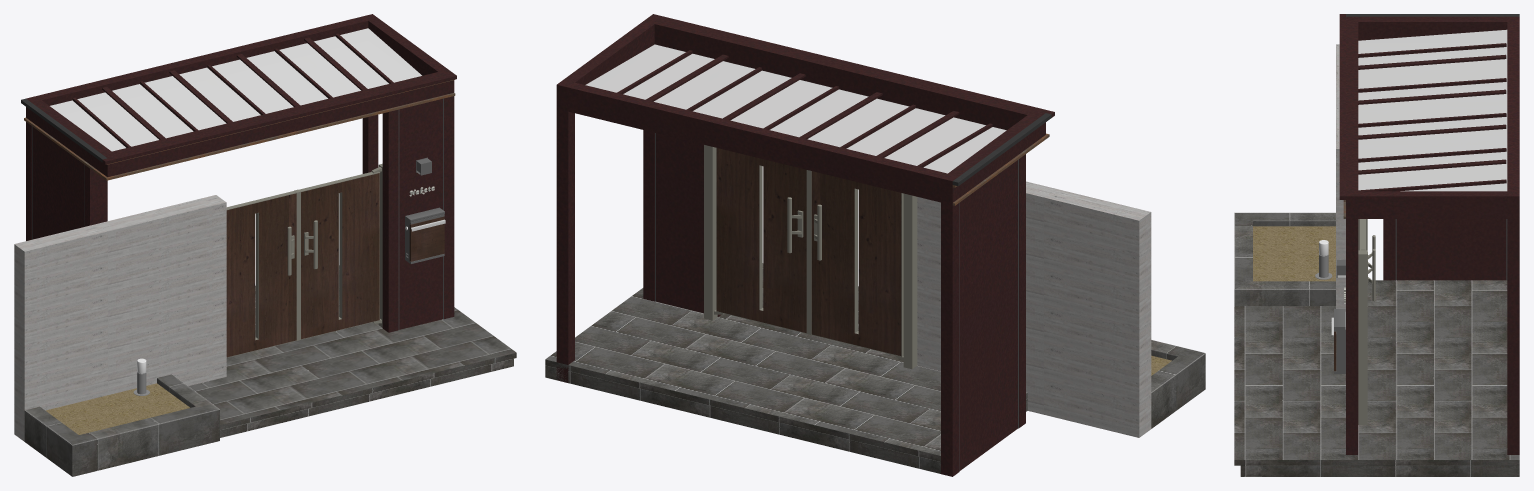
File: HY22_rustycopper.fbx
3 views of the same model, side by side, from view 1: azimuth 30°, elevation 25°; view 2: azimuth 150°, elevation 25°; view 3: azimuth 270°, elevation 25° (orthographic). The views are drawn at different scales.
Parts seen in each view (by area): view 1: HY22_rustycopper; view 2: HY22_rustycopper; view 3: HY22_rustycopper.
Boxes of the visible parts, <box> form: HY22_rustycopper: <box>14,14,516,476</box>; HY22_rustycopper: <box>545,14,1205,476</box>; HY22_rustycopper: <box>1234,14,1519,476</box>.
Bounding box in the file's own units: 440 × 245 × 230.
26 materials, 13 textured.
